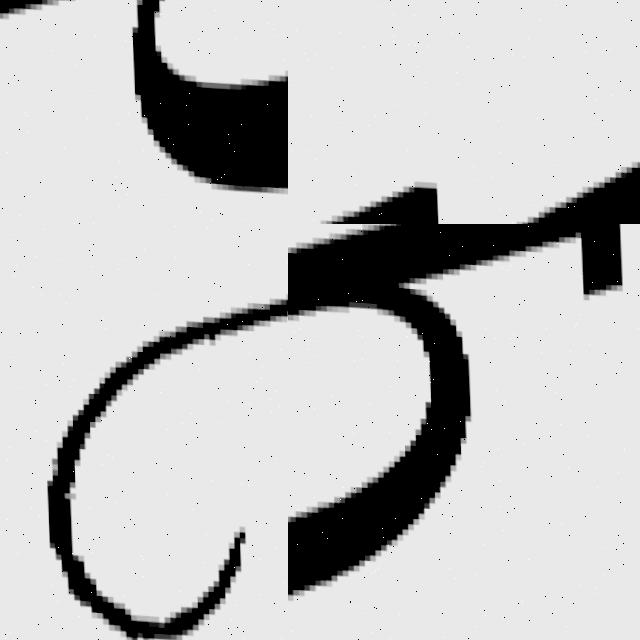D: (288, 224, 640, 640)
Q: (0, 0, 288, 216)
Y: (28, 224, 288, 640)
Z: (288, 25, 640, 224)
